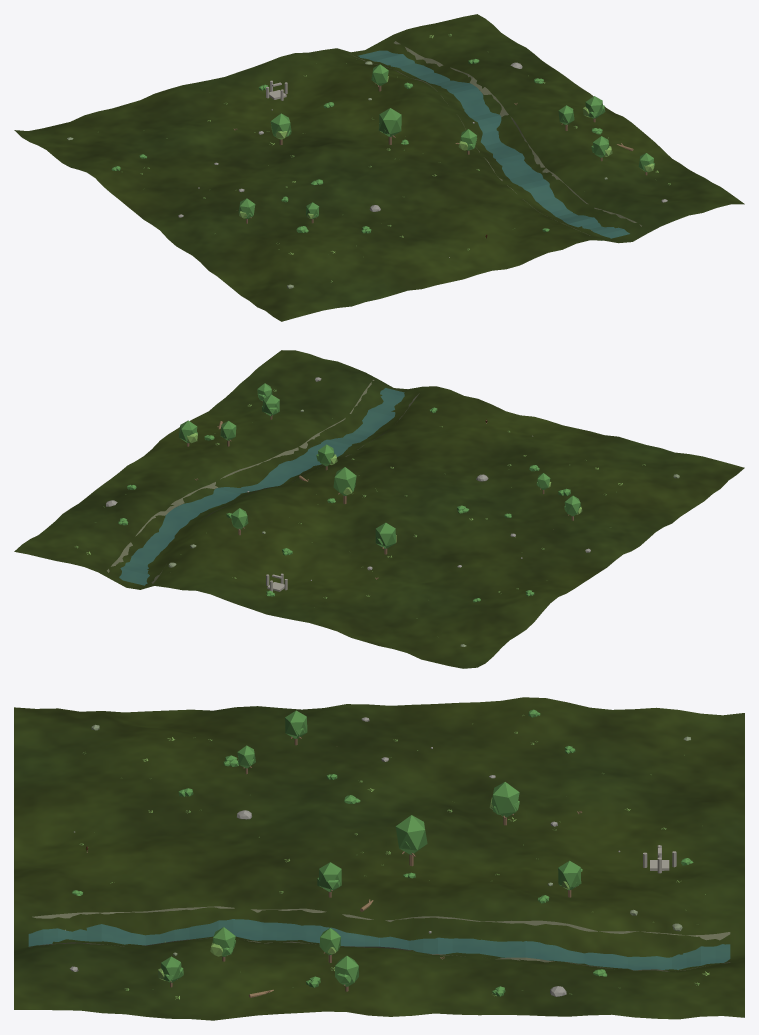
The model's file is JungleLevel.glb.
3 renders of one model, top to bottom at view 1: azimuth 30°, elevation 25°; view 2: azimuth 150°, elevation 25°; view 3: azimuth 270°, elevation 25°, orthographic. The views are drawn at different scales.
Parts seen in each view (by area): view 1: Terrain, River_Water, RiverBank_R, tree_000.002; view 2: Terrain, River_Water, RiverBank_R, tree_000.002; view 3: Terrain, River_Water, RiverBank_L, tree_000.002, tree_002.001, RiverBank_R, tree_001, tree_002, tree_000, tree_001.002, tree_001.001.
Part boxes in pixels (x1,y1,x2,y2): Terrain: (14,14,744,321); River_Water: (358,50,629,240); RiverBank_R: (394,41,641,226); tree_000.002: (378,108,401,144); Terrain: (14,350,744,668); River_Water: (119,388,404,585); RiverBank_R: (107,380,374,572); tree_000.002: (333,467,356,504); Terrain: (14,697,744,1020); River_Water: (28,919,730,970); RiverBank_L: (32,906,730,940); tree_000.002: (395,815,427,866); tree_002.001: (489,782,519,825); RiverBank_R: (29,938,730,971); tree_001: (317,862,341,897); tree_002: (210,927,235,961); tree_000: (335,955,358,991); tree_001.002: (558,860,581,897); tree_001.001: (285,710,307,745).
Size of the model in its own units: 120 by 14.06 by 120.
Materials: 19 (2 with a texture image).
